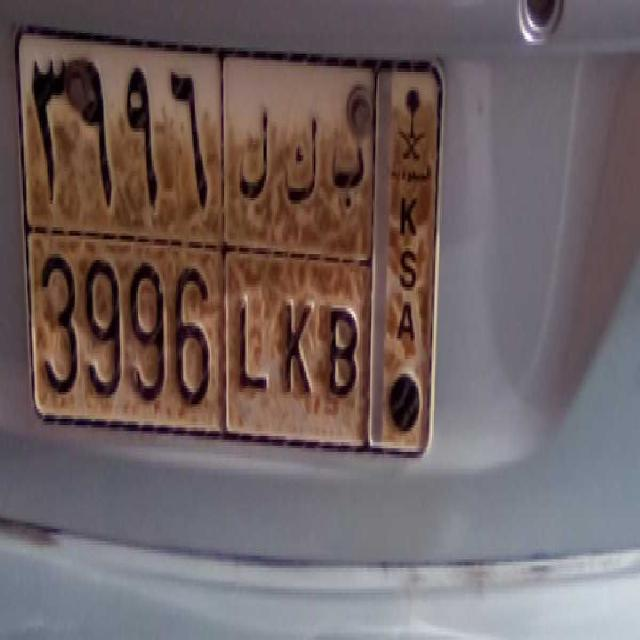license_plate: (27, 224, 368, 444)
